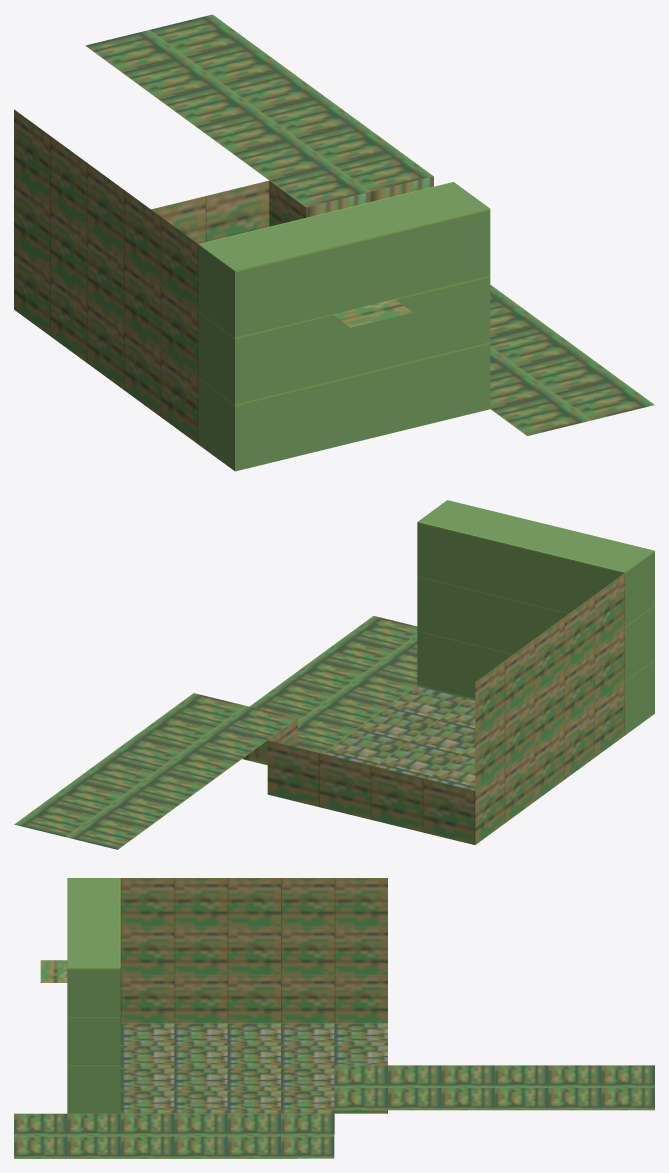
File: CrocotileTest.obj
3 views of the same model, one above another, from view 1: azimuth 30°, elevation 25°; view 2: azimuth 150°, elevation 25°; view 3: azimuth 270°, elevation 25° (orthographic). The views are drawn at different scales.
Parts seen in each view (by area): view 1: Default; view 2: Default; view 3: Default.
Boxes of the visible parts, left/top/right/bottom form: Default: left=14, top=14, right=654, bottom=471; Default: left=14, top=500, right=654, bottom=849; Default: left=14, top=878, right=654, bottom=1158.
Bounding box in the file's own units: 6 × 3 × 12.
Materials: 1 (1 with a texture image).
